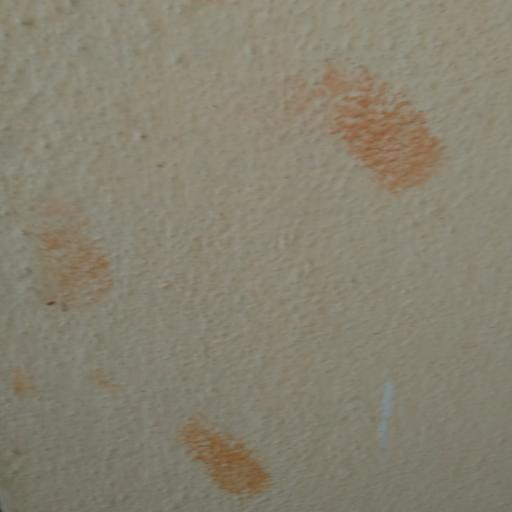stain: (276, 40, 475, 223), (7, 181, 117, 339), (159, 392, 286, 510)
